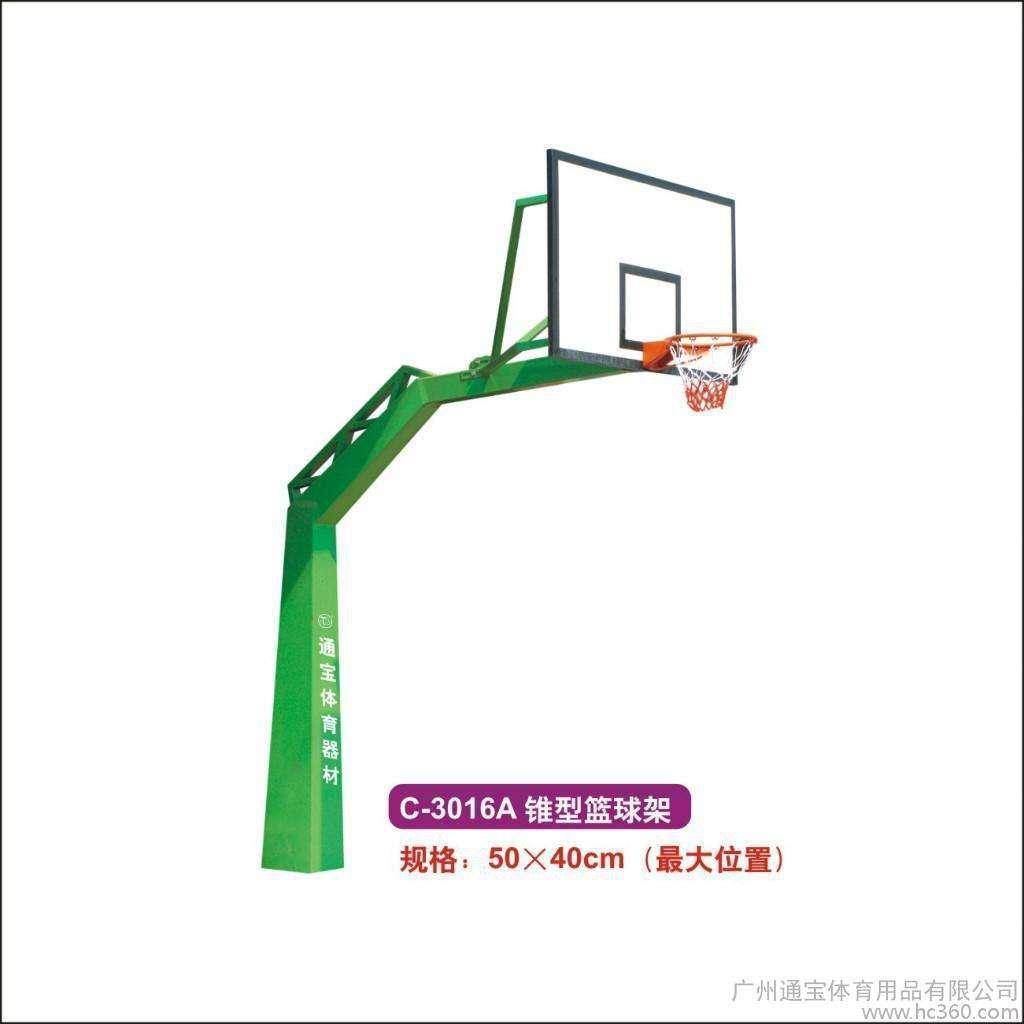rim: (671, 330, 758, 411)
